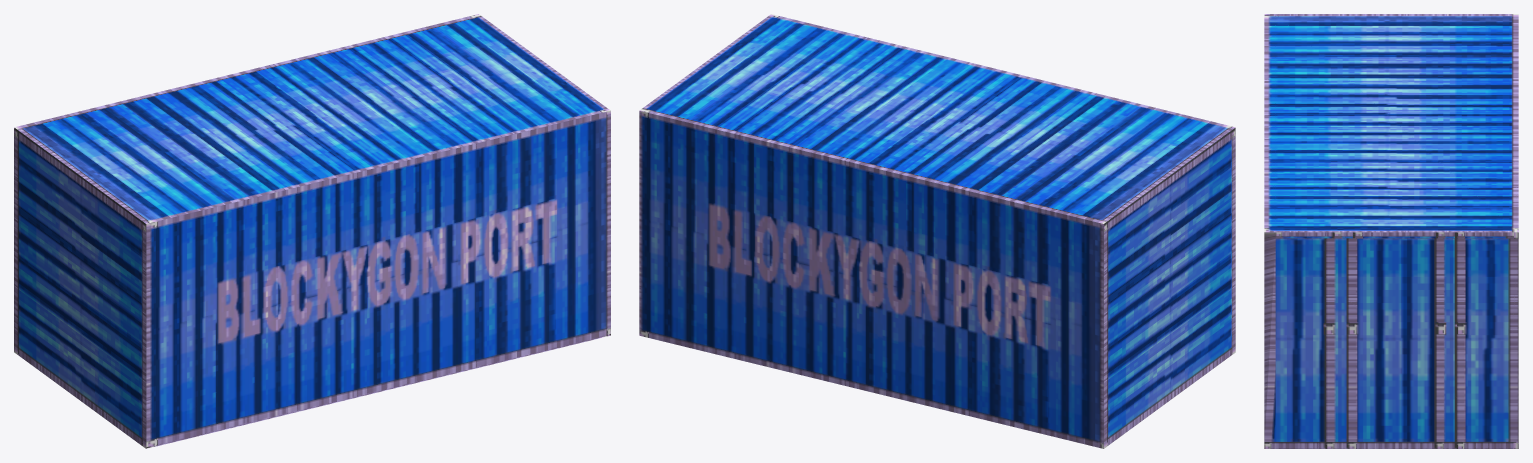
File: BLOCKYGON_BLUE CONTAINER(CLOSED)  (3).fbx
3 renders of one model, left to right at view 1: azimuth 30°, elevation 25°; view 2: azimuth 150°, elevation 25°; view 3: azimuth 270°, elevation 25°, orthographic. The views are drawn at different scales.
Parts seen in each view (by area): view 1: BLOCKYGON_BLUE_CONTAINER_CLOSED____3_; view 2: BLOCKYGON_BLUE_CONTAINER_CLOSED____3_; view 3: BLOCKYGON_BLUE_CONTAINER_CLOSED____3_.
Boxes of the visible parts, <box> form: BLOCKYGON_BLUE_CONTAINER_CLOSED____3_: <box>14,14,610,448</box>; BLOCKYGON_BLUE_CONTAINER_CLOSED____3_: <box>639,14,1235,448</box>; BLOCKYGON_BLUE_CONTAINER_CLOSED____3_: <box>1264,14,1518,448</box>.
Size of the model in its own units: 441 by 204 by 217.
Materials: 1 (1 with a texture image).
